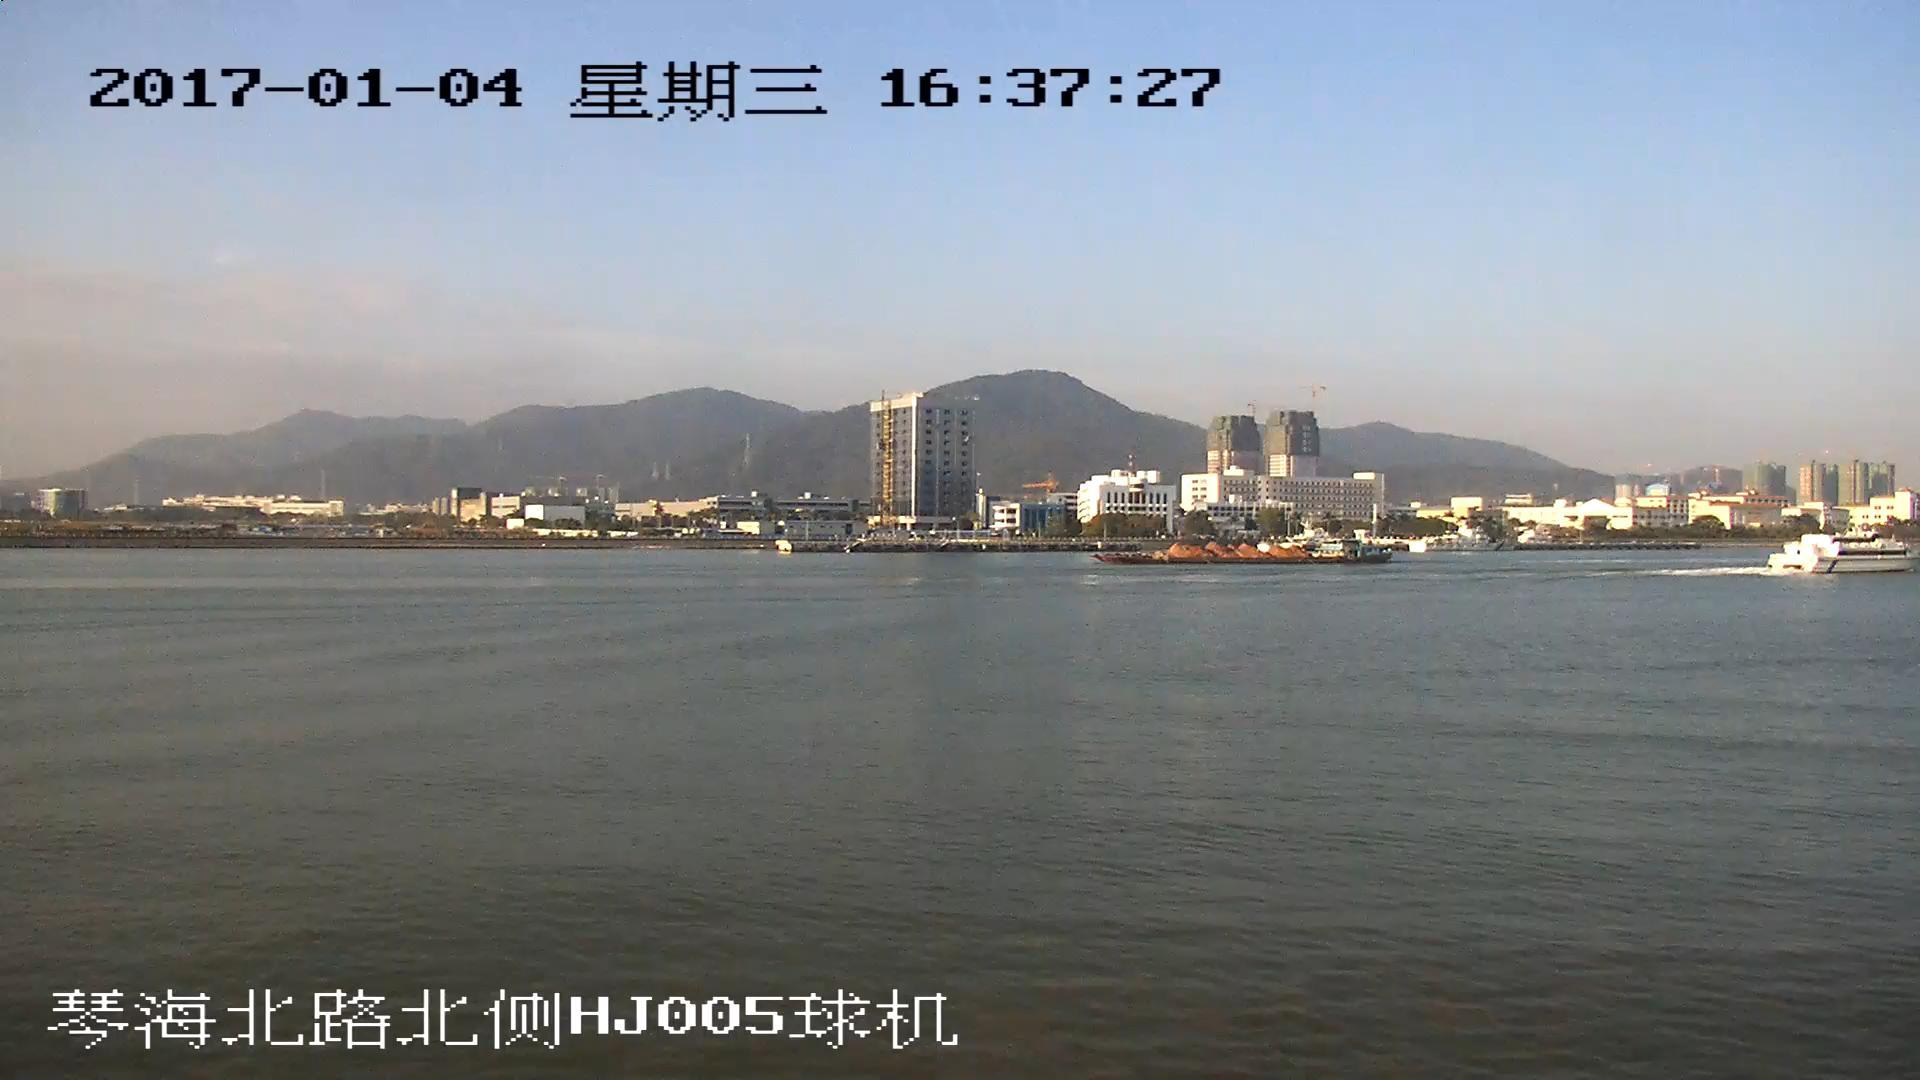Ship: (1098, 537, 1415, 568), (1764, 531, 1919, 578)
